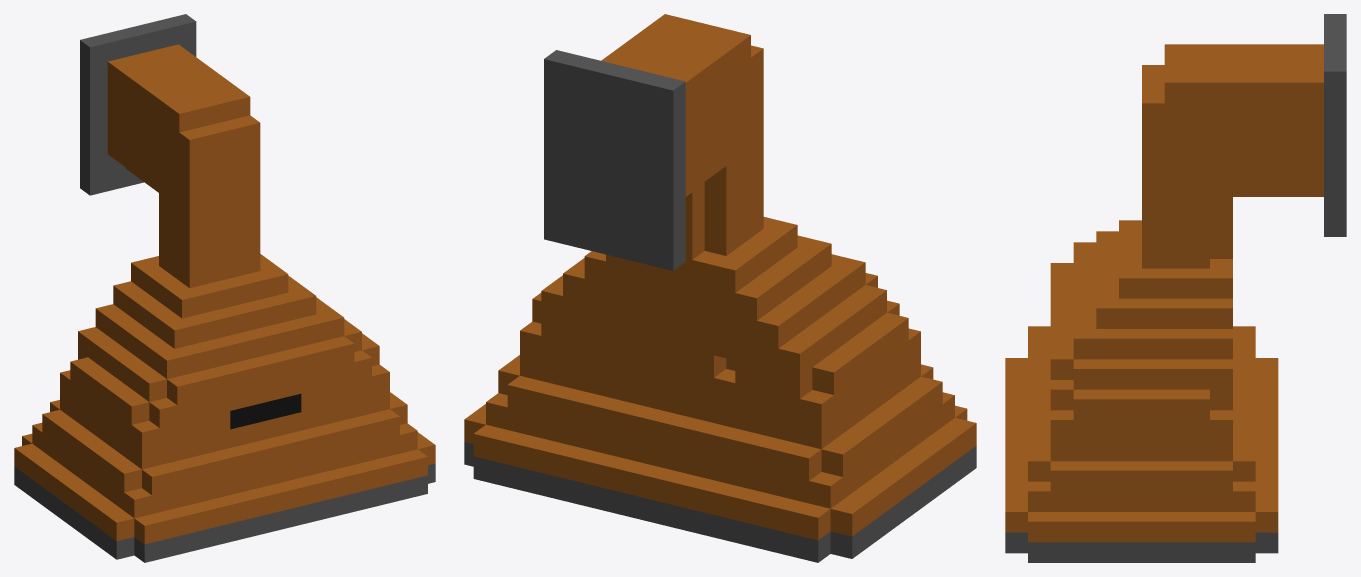
The model's file is Kitchen_TableV6.obj.
The picture shows the model from 3 angles, left to right: view 1: azimuth 30°, elevation 25°; view 2: azimuth 150°, elevation 25°; view 3: azimuth 270°, elevation 25°; orthographic projection. The views are drawn at different scales.
Size of the model in its own units: 1.8 by 2.1 by 1.5.
1 material, 1 textured.
